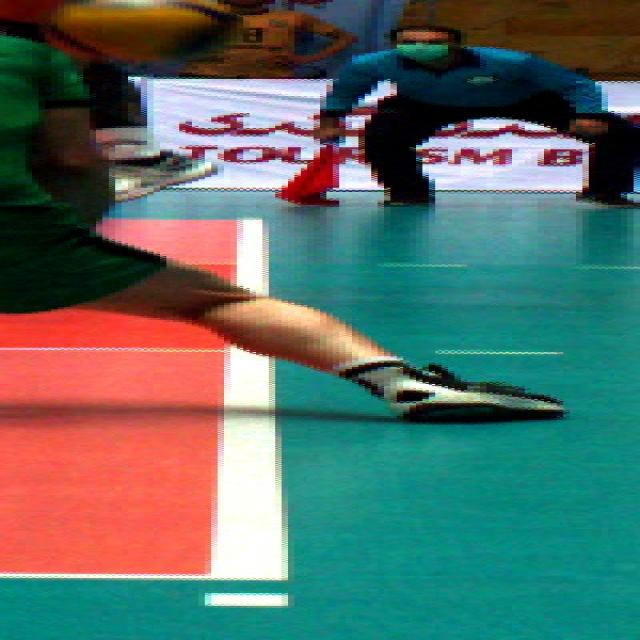Volleyball: (50, 1, 238, 66)
